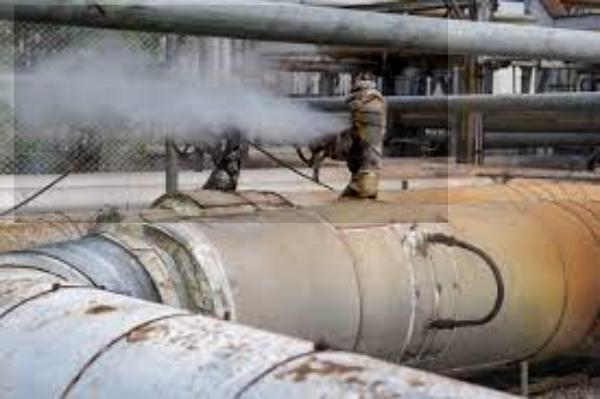gas: (14, 5, 448, 223)
